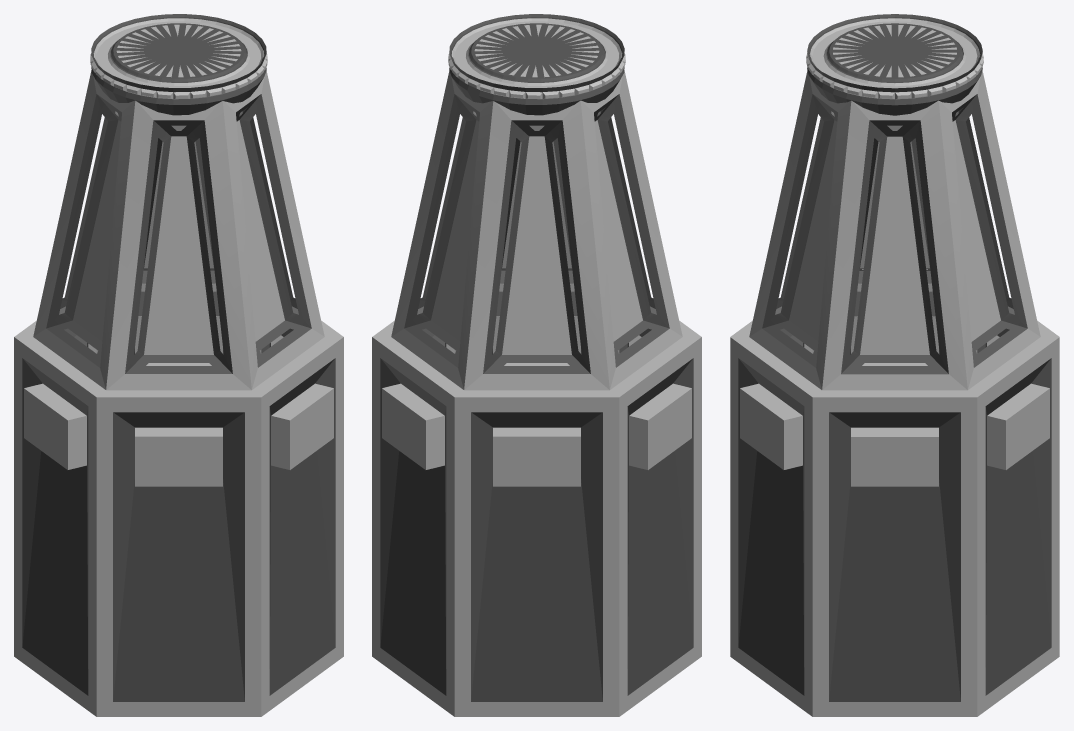
The model's file is tower_laser_base.dae.
3 renders of one model, left to right at view 1: azimuth 30°, elevation 25°; view 2: azimuth 150°, elevation 25°; view 3: azimuth 270°, elevation 25°, orthographic.
Visible parts, largest first — view 1: tower_laser_base; view 2: tower_laser_base; view 3: tower_laser_base.
Boxes of the visible parts, x1,y1,x2,y2 form: tower_laser_base: (14, 14, 343, 716); tower_laser_base: (372, 14, 701, 716); tower_laser_base: (730, 14, 1059, 716).
Size of the model in its own units: 13.99 by 15 by 30.4.
